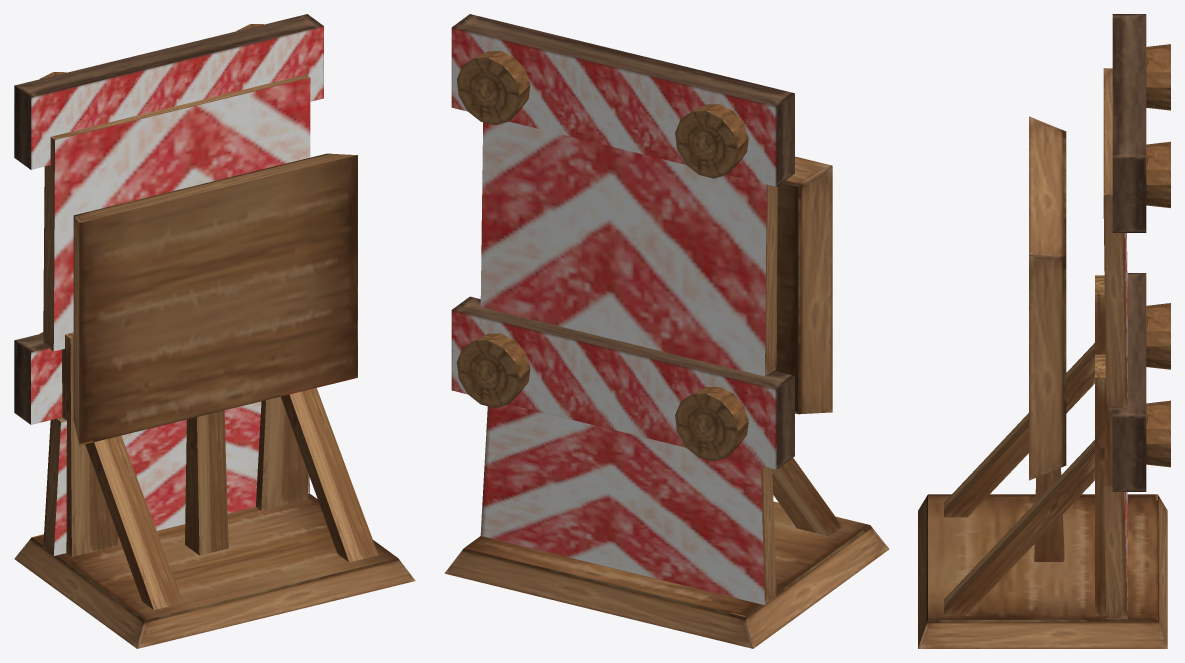
File: Barriers.fbx
3 renders of one model, left to right at view 1: azimuth 30°, elevation 25°; view 2: azimuth 150°, elevation 25°; view 3: azimuth 270°, elevation 25°, orthographic. The views are drawn at different scales.
Parts seen in each view (by area): view 1: barrier_down, sign, barrier_up; view 2: barrier_down, barrier_up, sign; view 3: barrier_down, sign, barrier_up.
Part boxes in pixels (bbox=[...]): barrier_down: bbox=[14, 14, 415, 648]; sign: bbox=[73, 153, 357, 555]; barrier_up: bbox=[14, 335, 414, 648]; barrier_down: bbox=[445, 14, 888, 648]; barrier_up: bbox=[445, 310, 887, 648]; sign: bbox=[775, 156, 832, 414]; barrier_down: bbox=[918, 14, 1170, 648]; sign: bbox=[1029, 116, 1066, 561]; barrier_up: bbox=[918, 346, 1170, 648].
Bounding box in the file's own units: 552 × 871 × 406.
